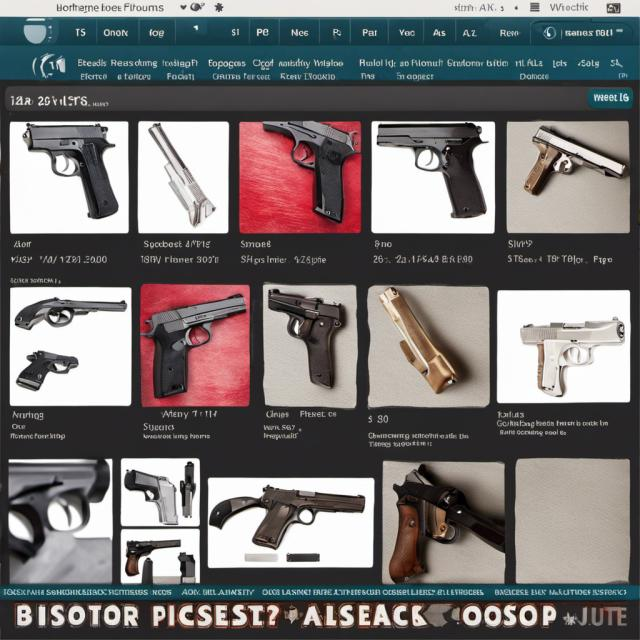gun: (377, 119, 487, 218), (148, 290, 246, 398), (20, 120, 125, 218), (262, 117, 356, 223), (264, 286, 351, 397), (522, 120, 633, 201), (516, 315, 626, 392), (251, 481, 368, 549), (12, 292, 129, 338), (127, 464, 182, 525), (122, 534, 185, 574)
